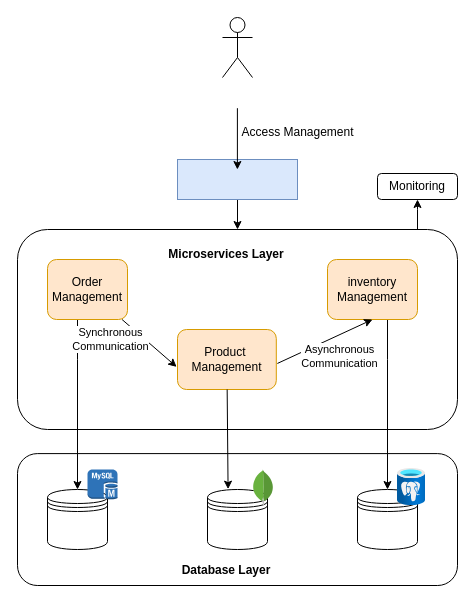
Image size: 475x603. Some labels were removed from this diagram. Here are the shapes that lost their labels. From the top down, the centre of each, then its label:
At [237,47]: "User".
At [237,179]: "API Gateway".
